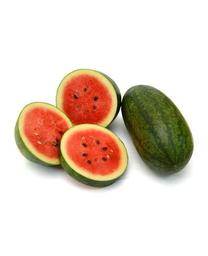watermelon: (15, 64, 130, 185), (120, 84, 197, 174)
